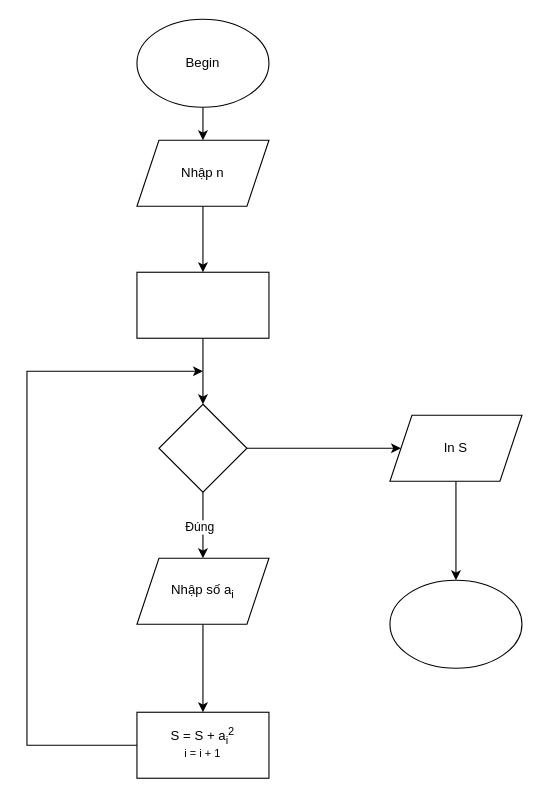
Some shapes in this 541 by 798 pixel diagram are drawn without their labels. Here are the shapes that lost their labels. From the top down, the centre of each, then its label:
At [202,304]: "S = 0 i = 1".
At [202,447]: "i <= n".
At [455,623]: "End".
